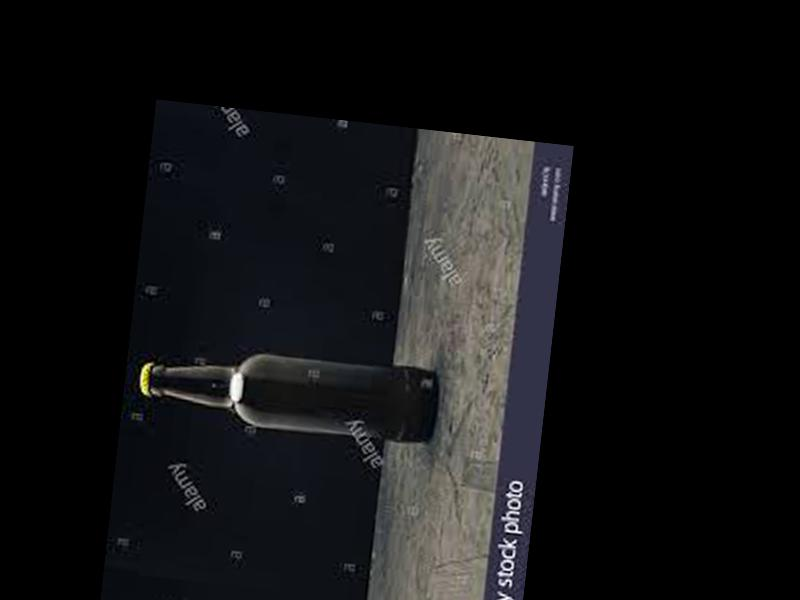Beer: (137, 338, 438, 439)
